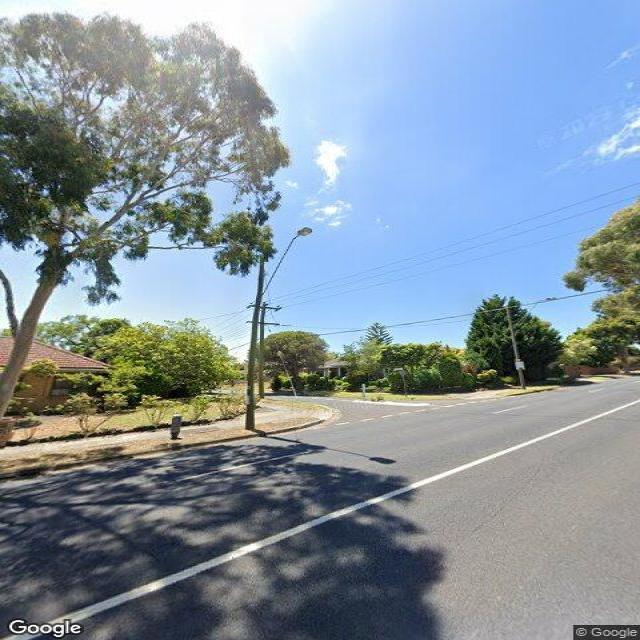crossarm: (246, 304, 282, 312), (246, 320, 281, 326)
streetlight: (251, 226, 313, 309)
timber-pole: (246, 256, 266, 430), (505, 306, 526, 388), (258, 302, 266, 398)
